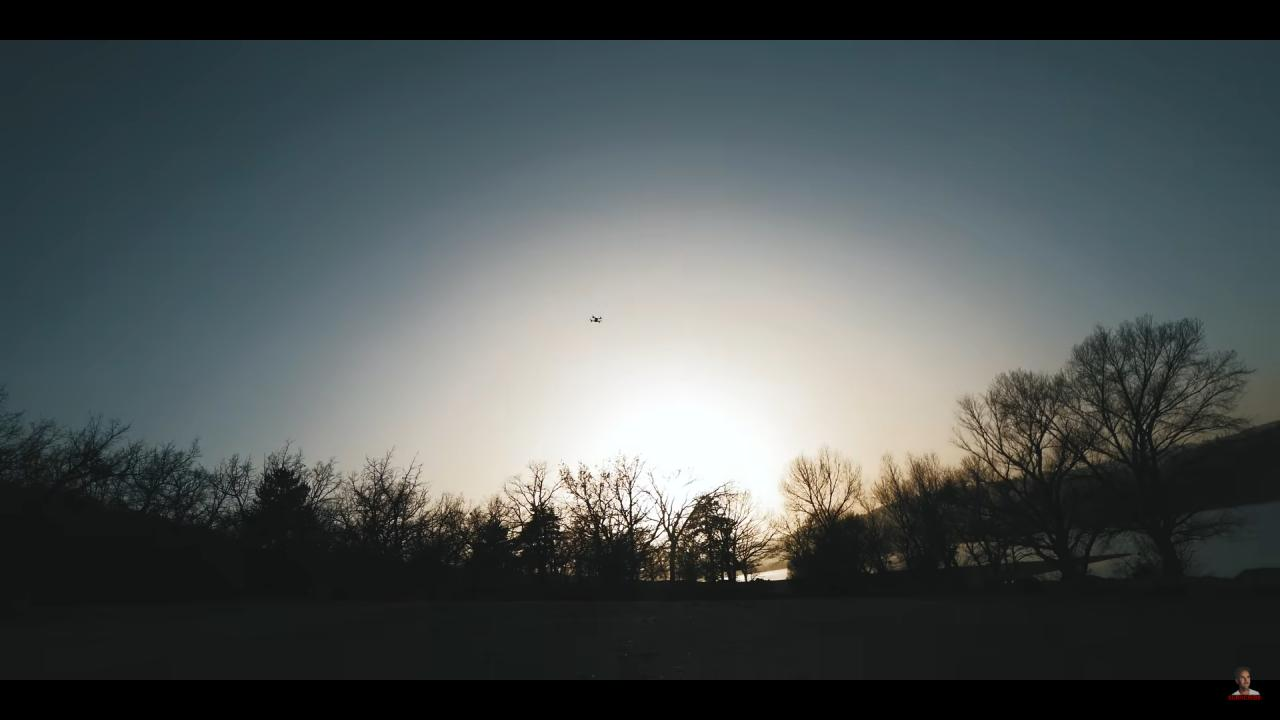Drone: (584, 310, 608, 328)
